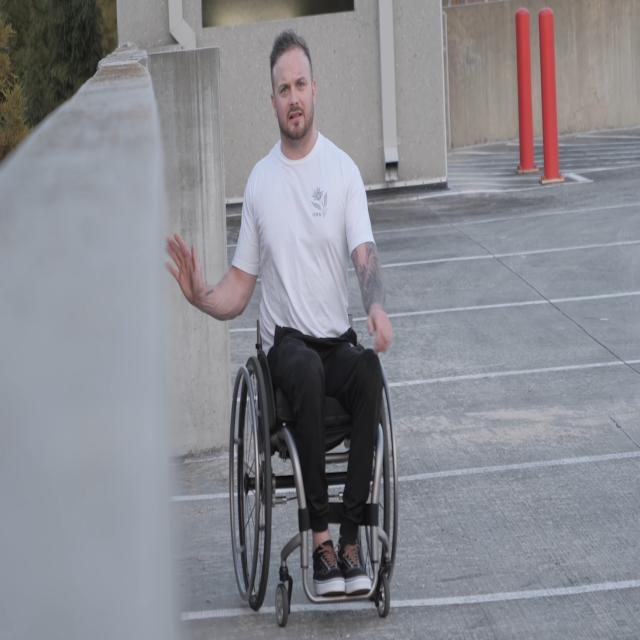wheelchairs: (228, 292, 400, 627)
